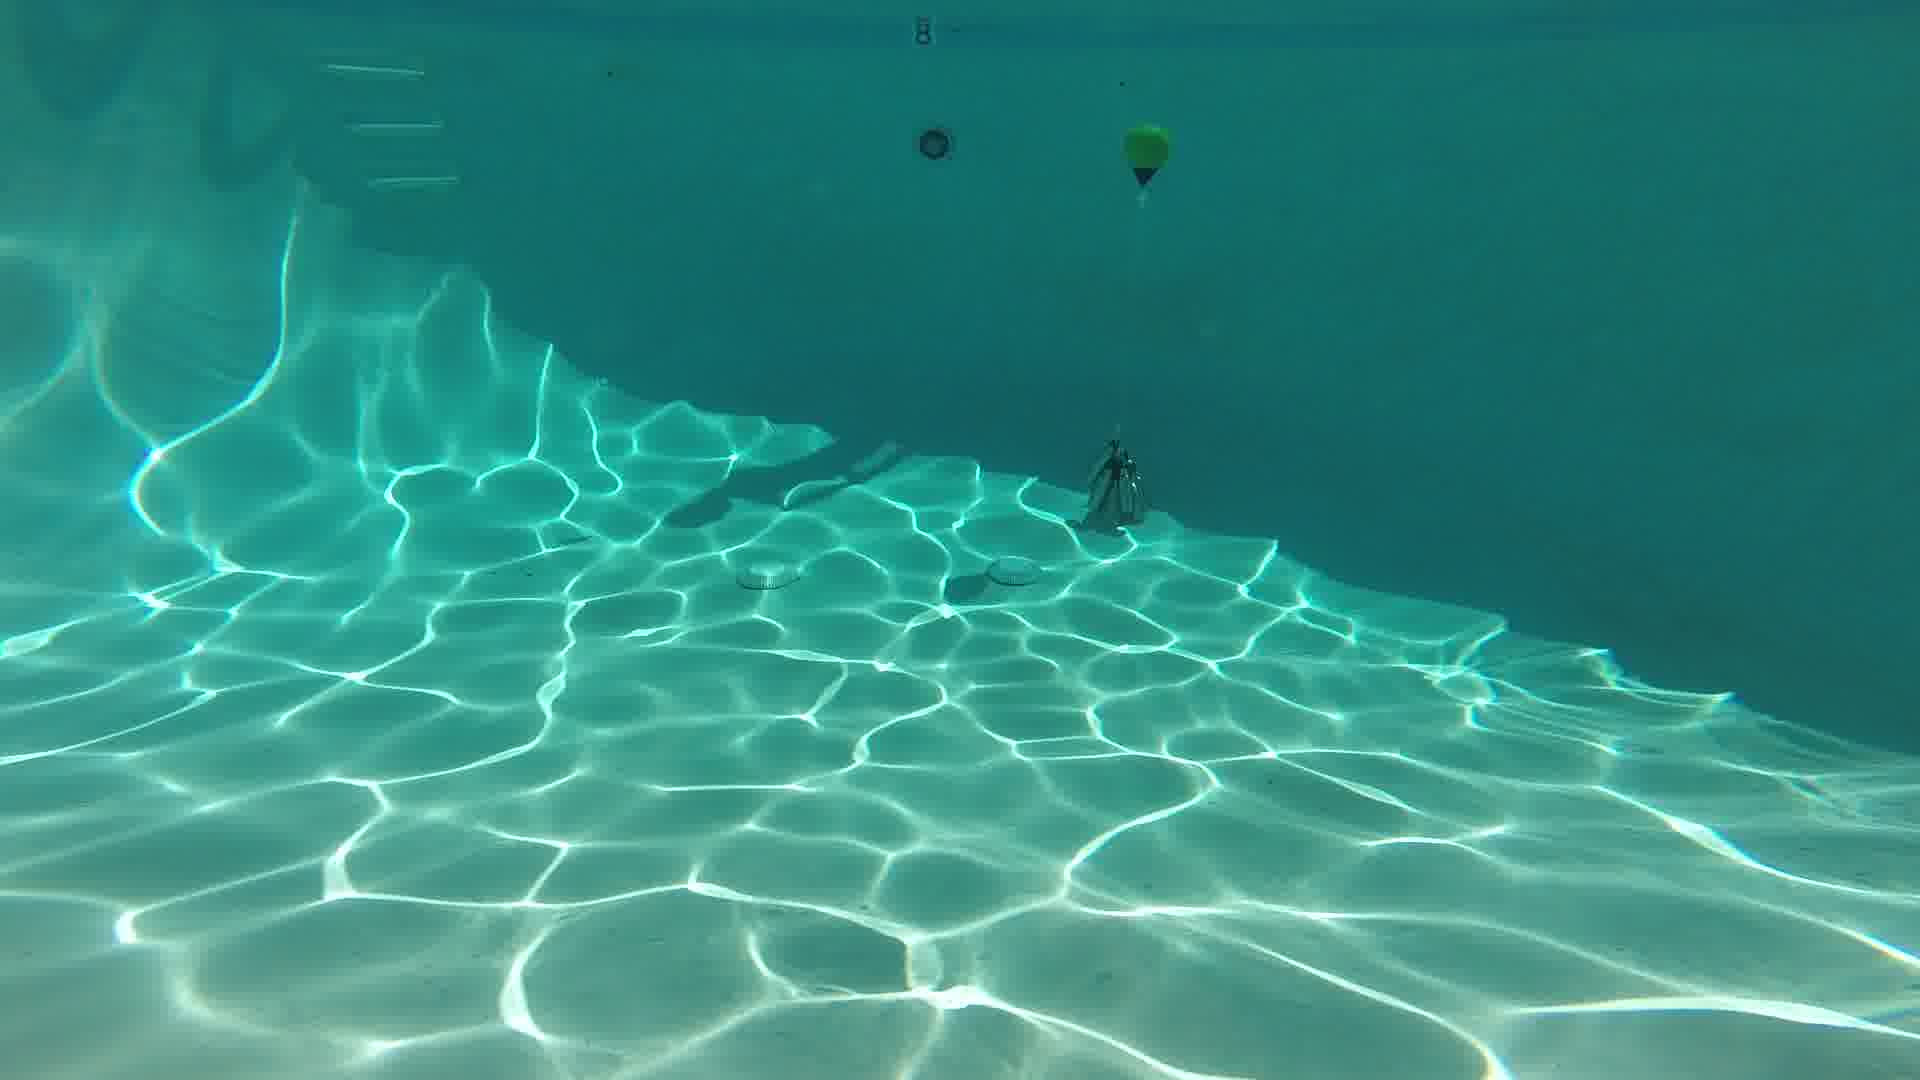yellow_buoy: (1124, 124, 1168, 186)
